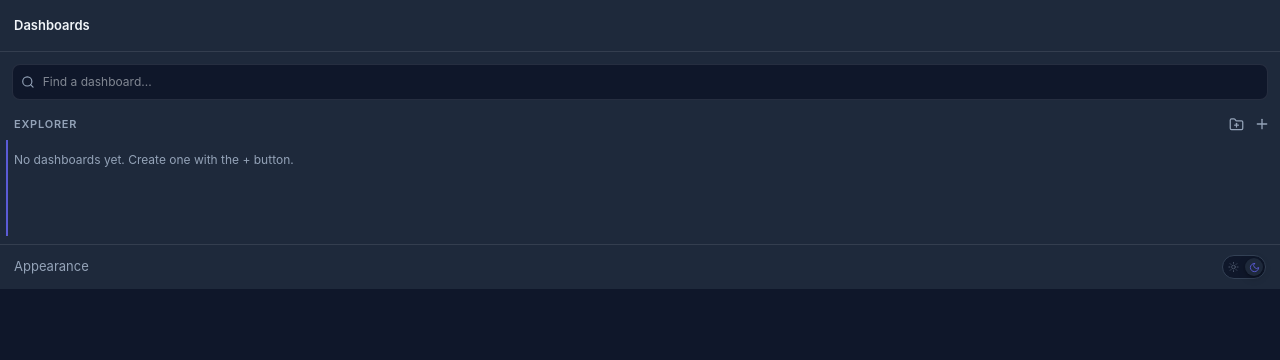
Test: DashboardExplorer › shows a subtle validation message when the name is empty on Enter
Click the button named "New group" at x=1236, y=124, box [1224,112,1248,136]
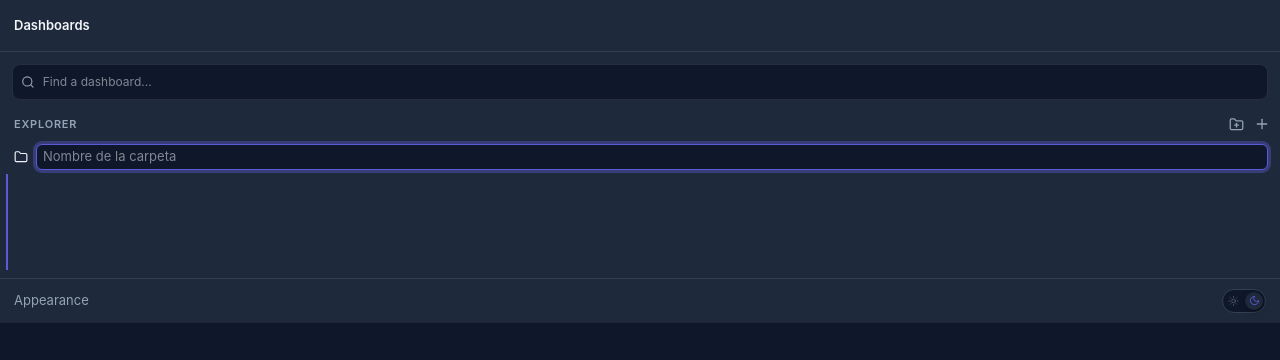
Press Enter in the field with placeholder "Nombre de la carpeta", box [36,144,1268,170]
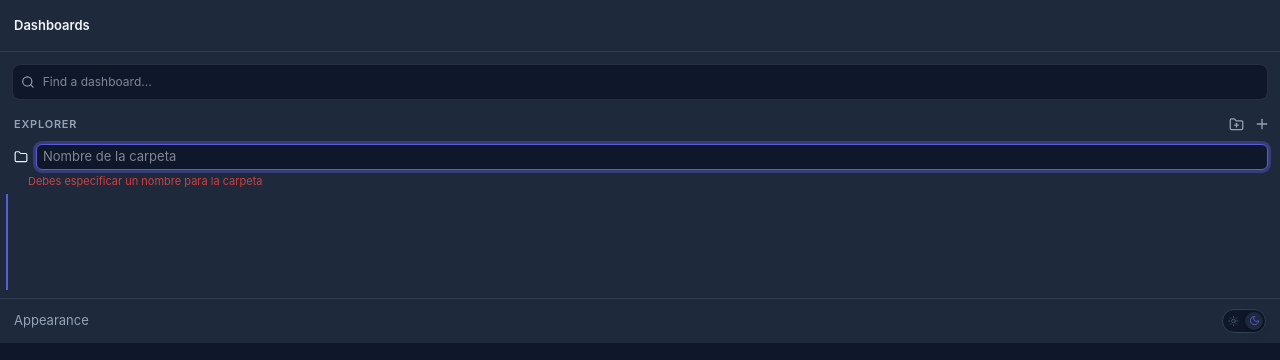
Expected: the field with placeholder "Nombre de la carpeta" is shown, [36,144,1268,170]
Expected: the text "Debes especificar un nombre para la carpeta" is shown, [28,174,262,188]
